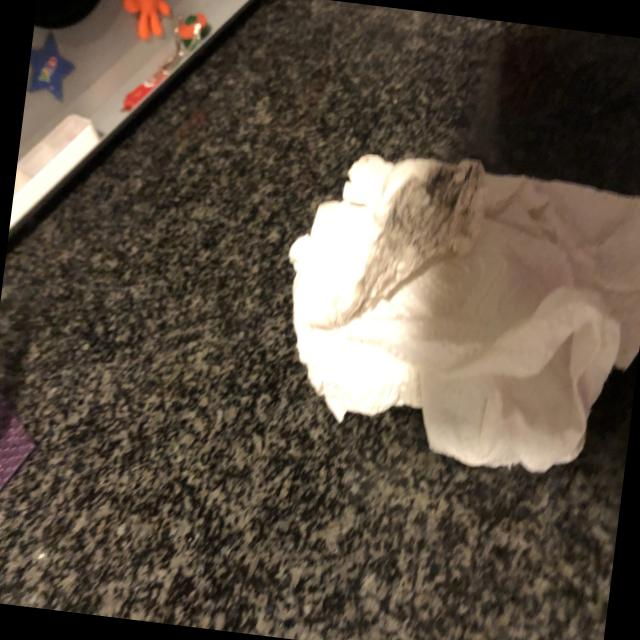organic waste: (265, 134, 640, 491)
